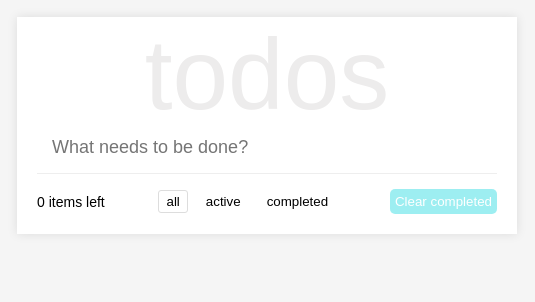
Todo App › can add a new todo
Type "Finish task 1" into the field with placeholder "What needs to be done?" at (267, 148), box [37,122,497,174]
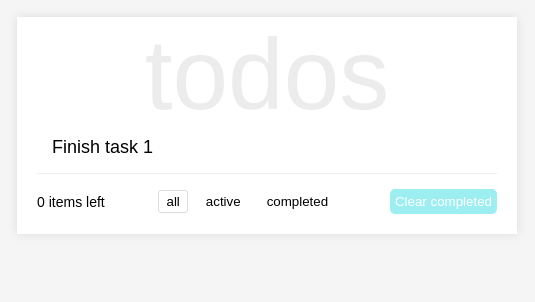
Submit the form from the field with placeholder "What needs to be done?", box [37,122,497,174]
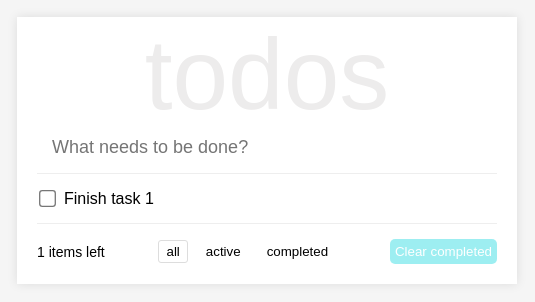
Check: the text "Finish task 1" is shown, box [64,190,154,208]
